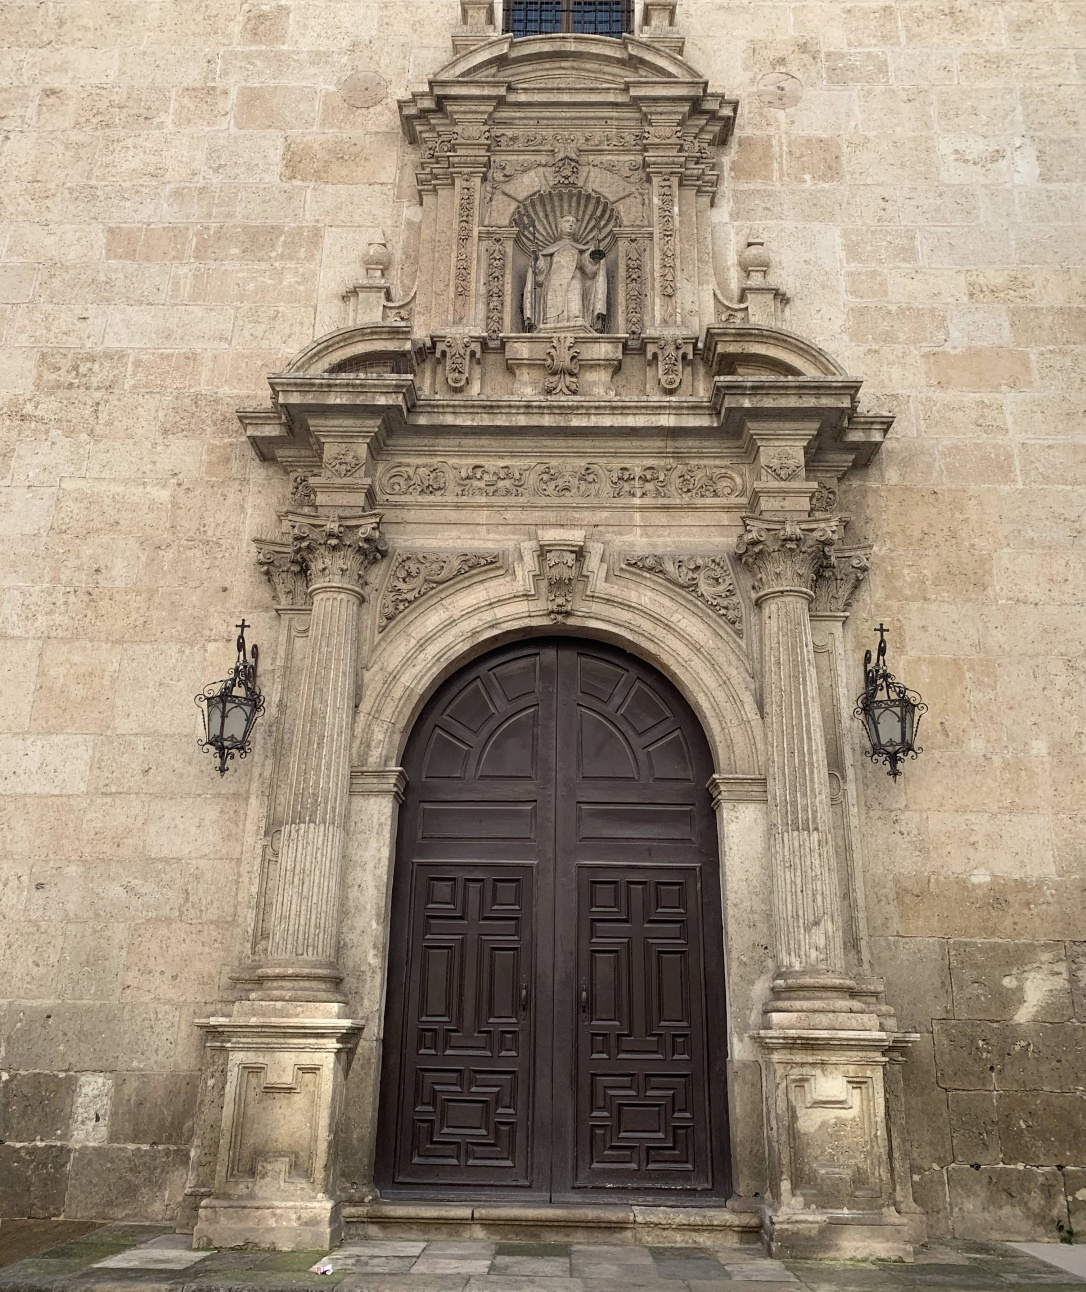arco-medio-punto: (375, 603, 744, 835)
fronton-partido: (278, 323, 854, 422), (432, 30, 712, 110)
